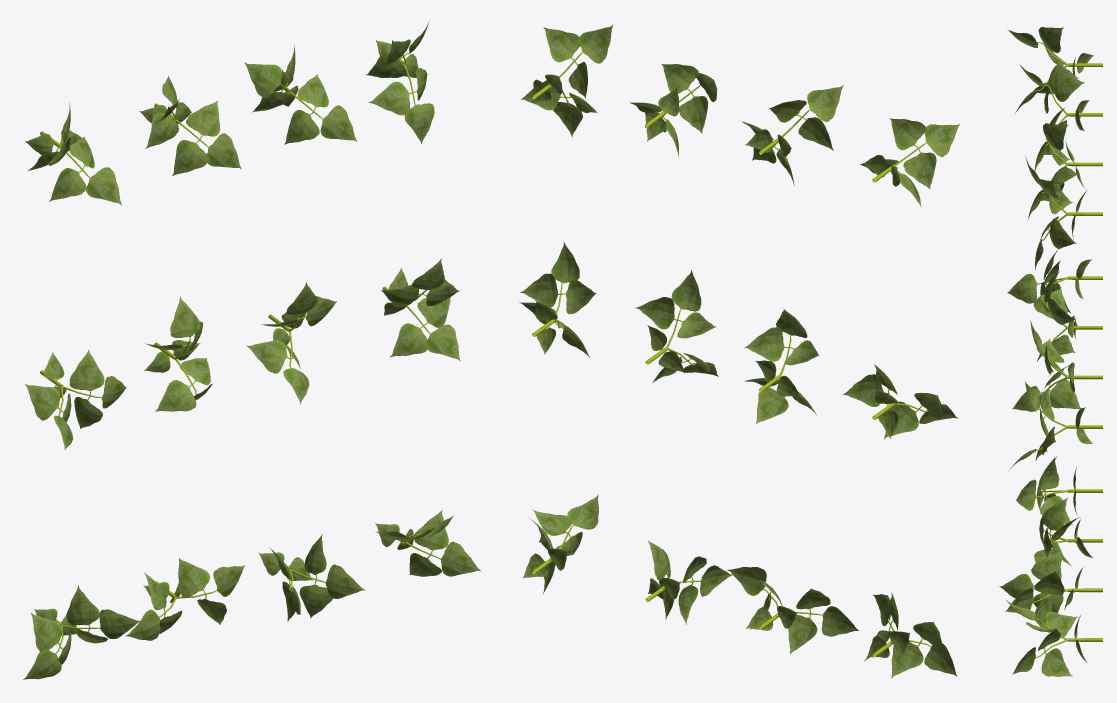
File: plant_genotype3.obj
The picture shows the model from 3 angles, left to right: view 1: azimuth 30°, elevation 25°; view 2: azimuth 150°, elevation 25°; view 3: azimuth 270°, elevation 25°; orthographic projection. The views are drawn at different scales.
Bounding box in the file's own units: 0.9918 × 1.22 × 0.2206.
Materials: 2 (1 with a texture image).
